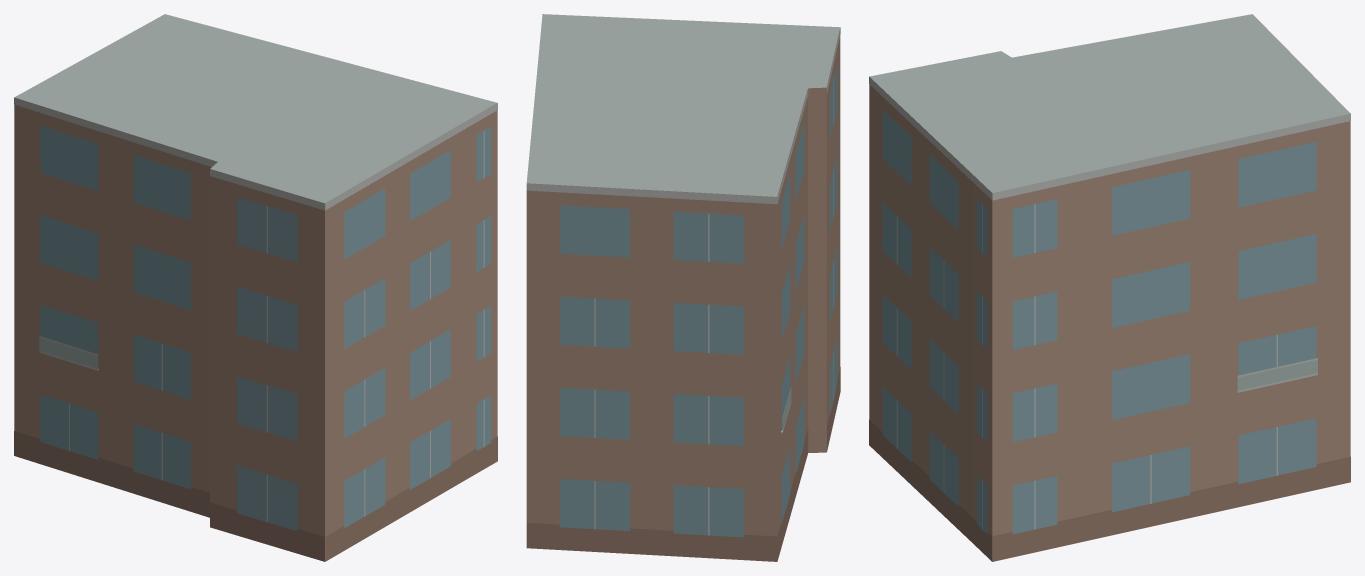
File: survey-upis-32985086.glb
3 views of the same model, side by side, from view 1: azimuth 30°, elevation 25°; view 2: azimuth 150°, elevation 25°; view 3: azimuth 270°, elevation 25° (orthographic). The views are drawn at different scales.
Visible parts, largest first — view 1: survey-upis-32985086.tmp; view 2: survey-upis-32985086.tmp; view 3: survey-upis-32985086.tmp.
Part boxes in pixels (box(x1,y1,x2,y2)): survey-upis-32985086.tmp: box(14, 14, 497, 561); survey-upis-32985086.tmp: box(526, 14, 840, 561); survey-upis-32985086.tmp: box(869, 14, 1350, 561).
Size of the model in its own units: 12.73 by 12.2 by 14.46.
